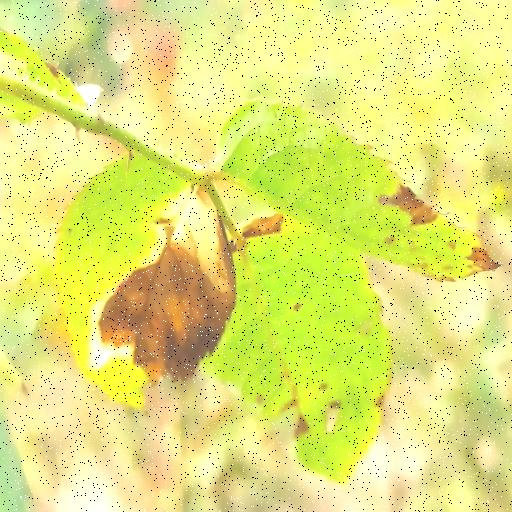thrip: (205, 220, 392, 480), (217, 101, 482, 279), (55, 158, 236, 408)
